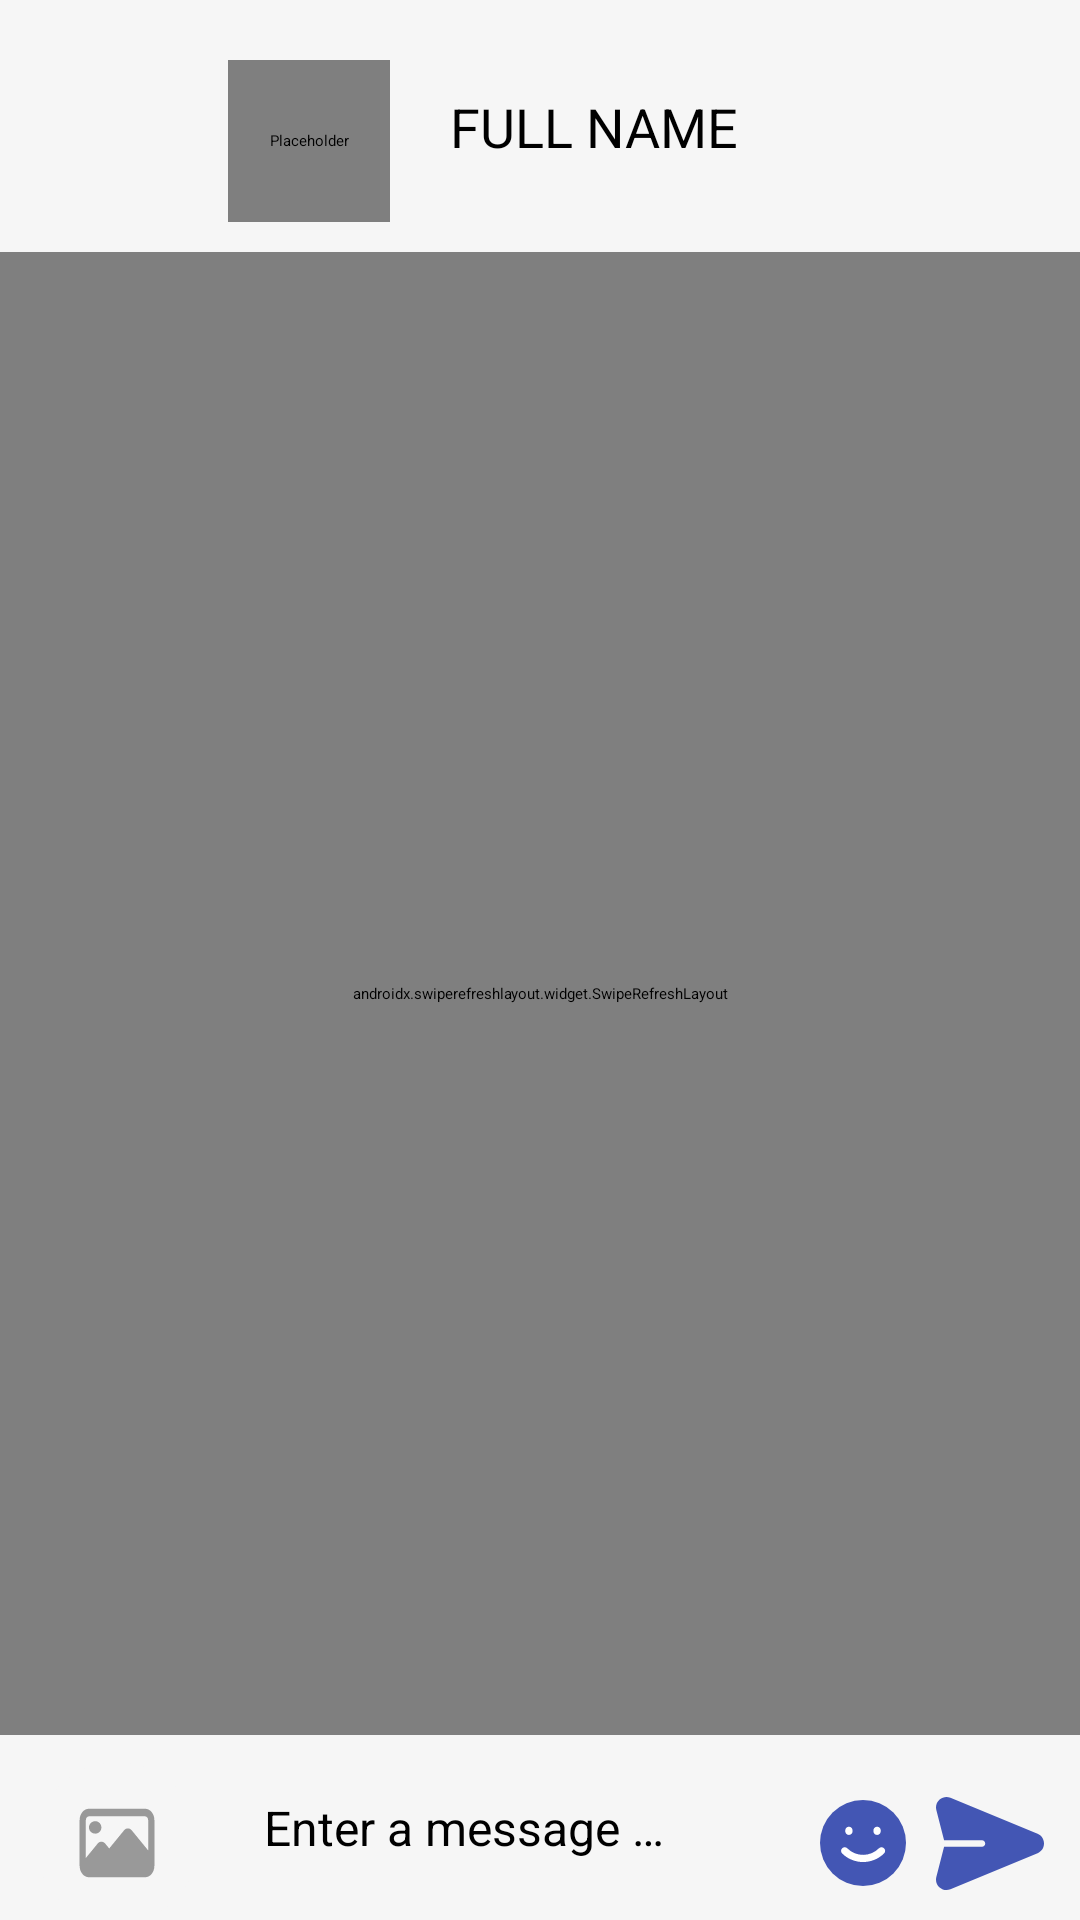

Named icons in this screenshot (1080x1920) and their centers, (x=x, y=y):
add photo: (x=117, y=1843)
send: (x=990, y=1843)
smile: (x=863, y=1843)
